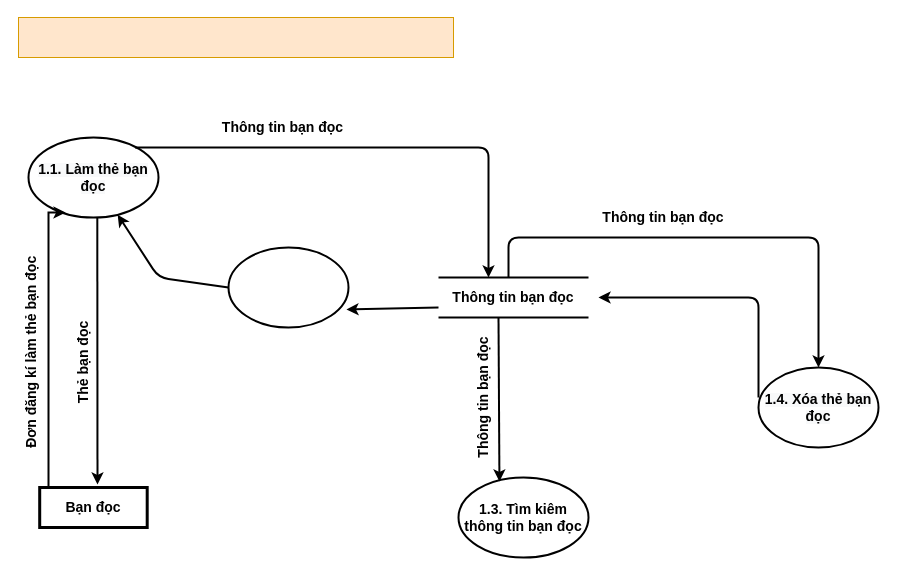
This 897x576 diagram has some shape labels left out. The shapes that lost their labels are listed below. From the top down, each one's centre as x and y in pixels, then its label:
At pixel 236 37: "Sơ đồ mức dưới đỉnh chức năng quản lí bạn đọc".
At pixel 288 287: "1.2. Cập nhật thẻ bạn đọc".
